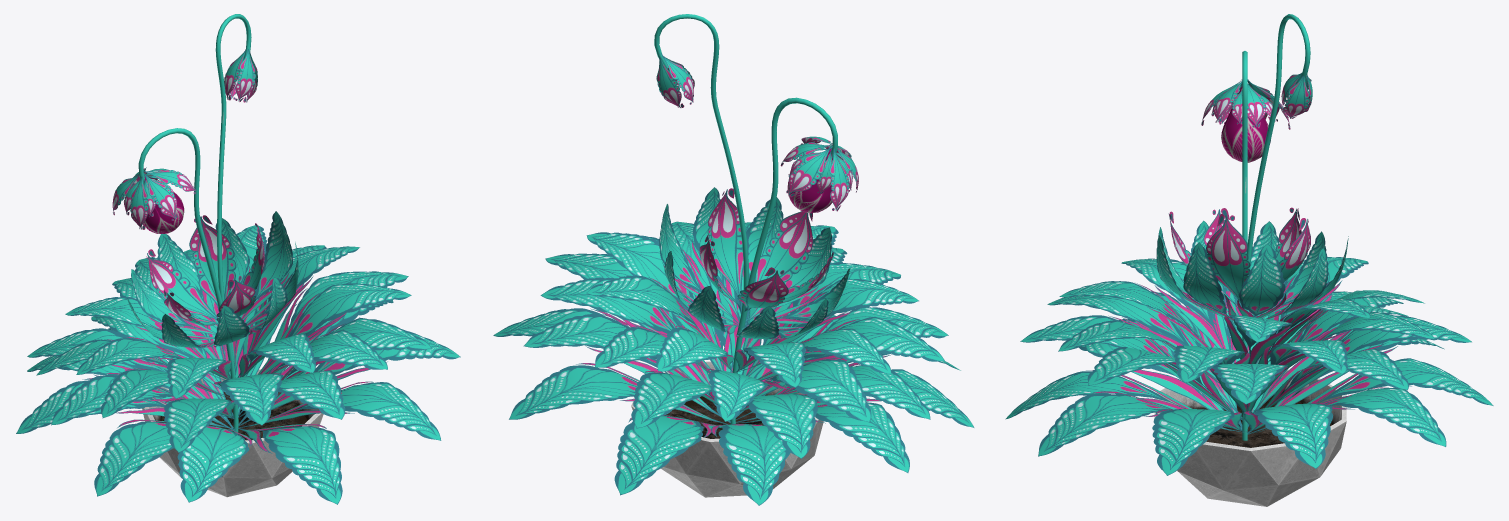
The model's file is Plant-Challenge.fbx.
3 renders of one model, left to right at view 1: azimuth 30°, elevation 25°; view 2: azimuth 150°, elevation 25°; view 3: azimuth 270°, elevation 25°, orthographic. The views are drawn at different scales.
Parts seen in each view (by area): view 1: Maceta, Hoja-2.018, Hoja-2.011, Hoja-2.016, Hoja-2.017, Hoja-2.044, Hoja-2.032, Hoja-2.027, Hoja-2.025, Hoja-2.002, Hoja-2.043, Hoja-1.014 (+38 smaller); view 2: Maceta, Hoja-2.015, Hoja-2.014, Hoja-2.019, Hoja-2.005, Hoja-2.003, Hoja-2.030, Hoja-2.020, Hoja-2.045, Hoja-2.029, Hoja-2.004, Hoja-1.015 (+36 smaller); view 3: Maceta, Hoja-2.011, Hoja-2.013, Hoja-2.012, Hoja-2.014, Hoja-2.018, Hoja-2.015, Hoja-2.036, Hoja-2.002, Hoja-1.016, Hoja-2.026, Hoja-2.028 (+30 smaller).
Boxes of the visible parts, x1,y1,x2,y2 form: Maceta: [142, 369, 323, 497]; Hoja-2.018: [237, 424, 342, 504]; Hoja-2.011: [239, 381, 441, 440]; Hoja-2.016: [94, 419, 173, 496]; Hoja-2.017: [177, 425, 252, 502]; Hoja-2.044: [258, 283, 411, 374]; Hoja-2.032: [163, 398, 235, 452]; Hoja-2.027: [238, 271, 408, 415]; Hoja-2.025: [238, 370, 345, 419]; Hoja-2.002: [214, 373, 282, 425]; Hoja-2.043: [271, 330, 387, 373]; Hoja-1.014: [189, 215, 236, 307]; Maceta: [631, 361, 823, 497]; Hoja-2.015: [614, 415, 722, 495]; Hoja-2.014: [509, 363, 727, 424]; Hoja-2.019: [711, 424, 790, 505]; Hoja-2.005: [764, 358, 871, 422]; Hoja-2.003: [586, 232, 732, 371]; Hoja-2.030: [740, 394, 817, 458]; Hoja-2.020: [735, 401, 909, 472]; Hoja-2.045: [540, 277, 710, 370]; Hoja-2.029: [631, 371, 717, 428]; Hoja-2.004: [758, 316, 944, 380]; Hoja-1.015: [754, 211, 813, 282]; Maceta: [1154, 369, 1346, 506]; Hoja-2.011: [1038, 391, 1243, 456]; Hoja-2.013: [1244, 403, 1333, 468]; Hoja-2.012: [1152, 409, 1246, 475]; Hoja-2.014: [1248, 387, 1446, 446]; Hoja-2.018: [1005, 370, 1242, 431]; Hoja-2.015: [1247, 358, 1493, 434]; Hoja-2.036: [1237, 244, 1286, 317]; Hoja-2.002: [1047, 296, 1217, 380]; Hoja-1.016: [1206, 214, 1250, 308]; Hoja-2.026: [1087, 347, 1245, 421]; Hoja-2.028: [1264, 348, 1408, 408].
Bounding box in the file's own units: 2006 × 2201 × 2044.
